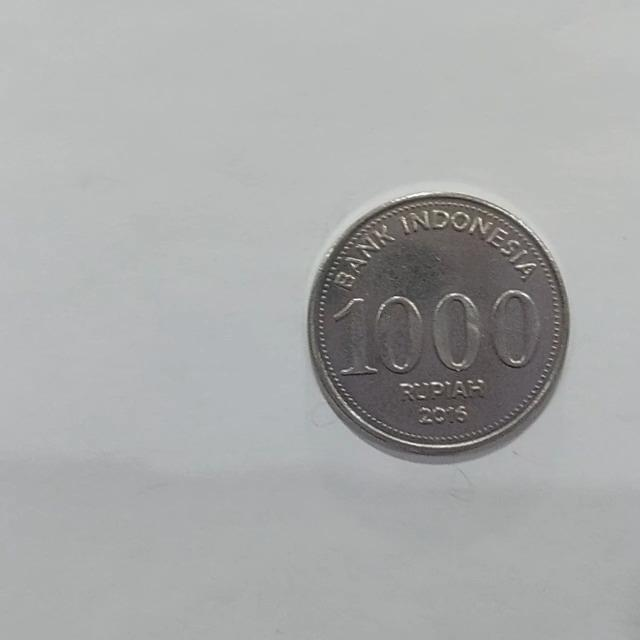Rp100: (305, 188, 571, 464)
